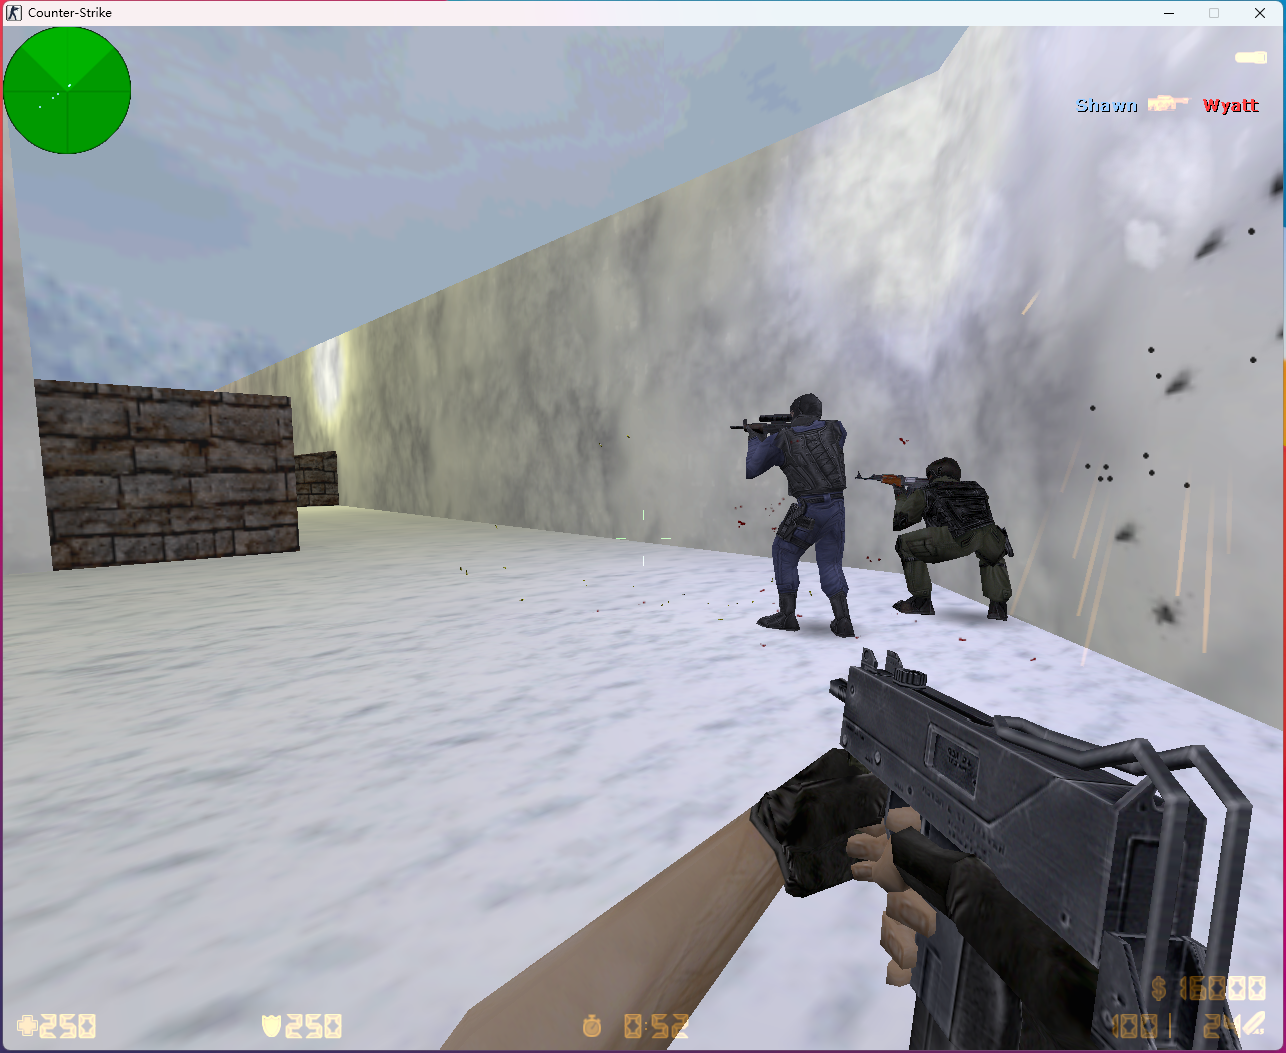C: (742, 392, 865, 639), (893, 453, 1011, 627)
